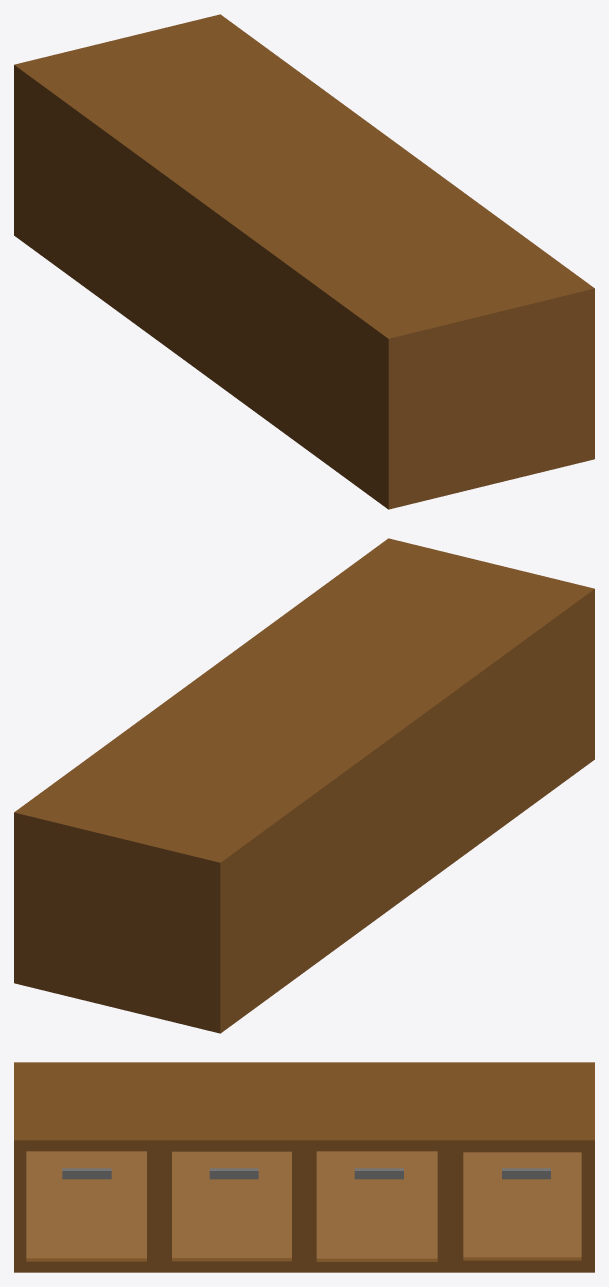
File: lowershelf.fbx
3 renders of one model, top to bottom at view 1: azimuth 30°, elevation 25°; view 2: azimuth 150°, elevation 25°; view 3: azimuth 270°, elevation 25°, orthographic. The views are drawn at different scales.
Parts seen in each view (by area): view 1: Cube.041; view 2: Cube.041; view 3: Cube.041.
Boxes of the visible parts, <box> form: Cube.041: <box>14,14,594,509</box>; Cube.041: <box>14,538,594,1033</box>; Cube.041: <box>14,1062,594,1272</box>.
Bounding box in the file's own units: 753 × 596 × 2367.
